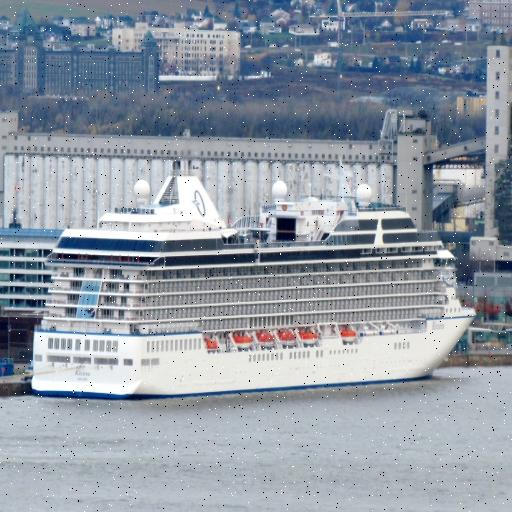cruises: (30, 172, 479, 407)
